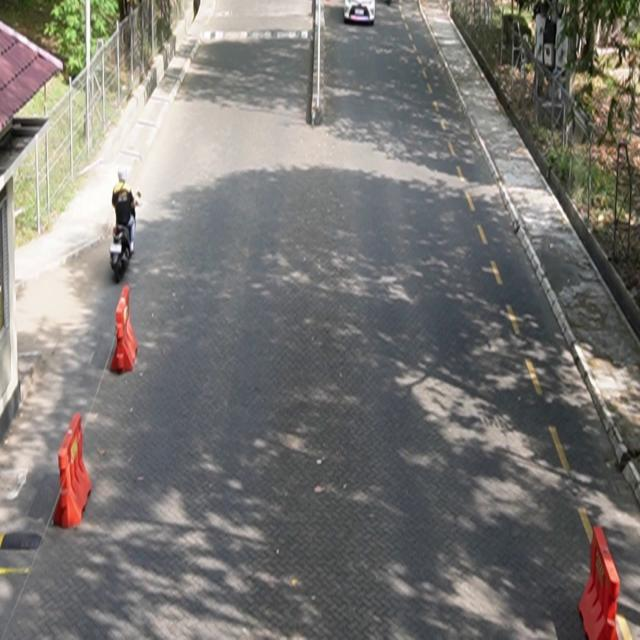car: (344, 1, 377, 26)
